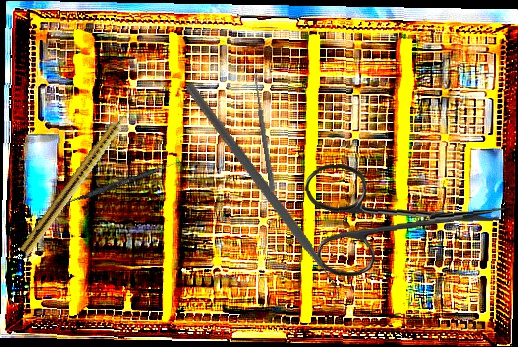Chopper: (128, 81, 395, 314)
Handpiece: (18, 102, 139, 258)
Iris Scissors: (304, 155, 509, 279)
Spatula Surgical: (61, 156, 185, 209)
Surgical Spoon: (251, 72, 277, 192)
